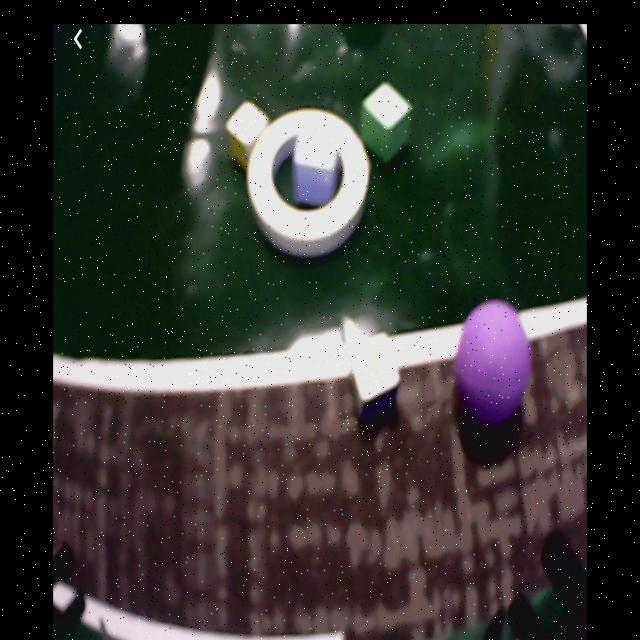ball: (458, 302, 532, 422)
